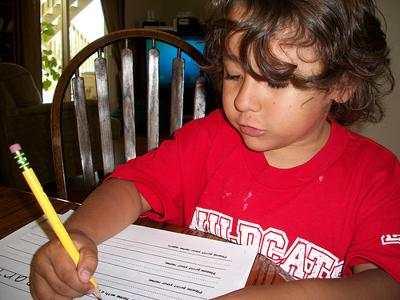person: (30, 2, 400, 300)
